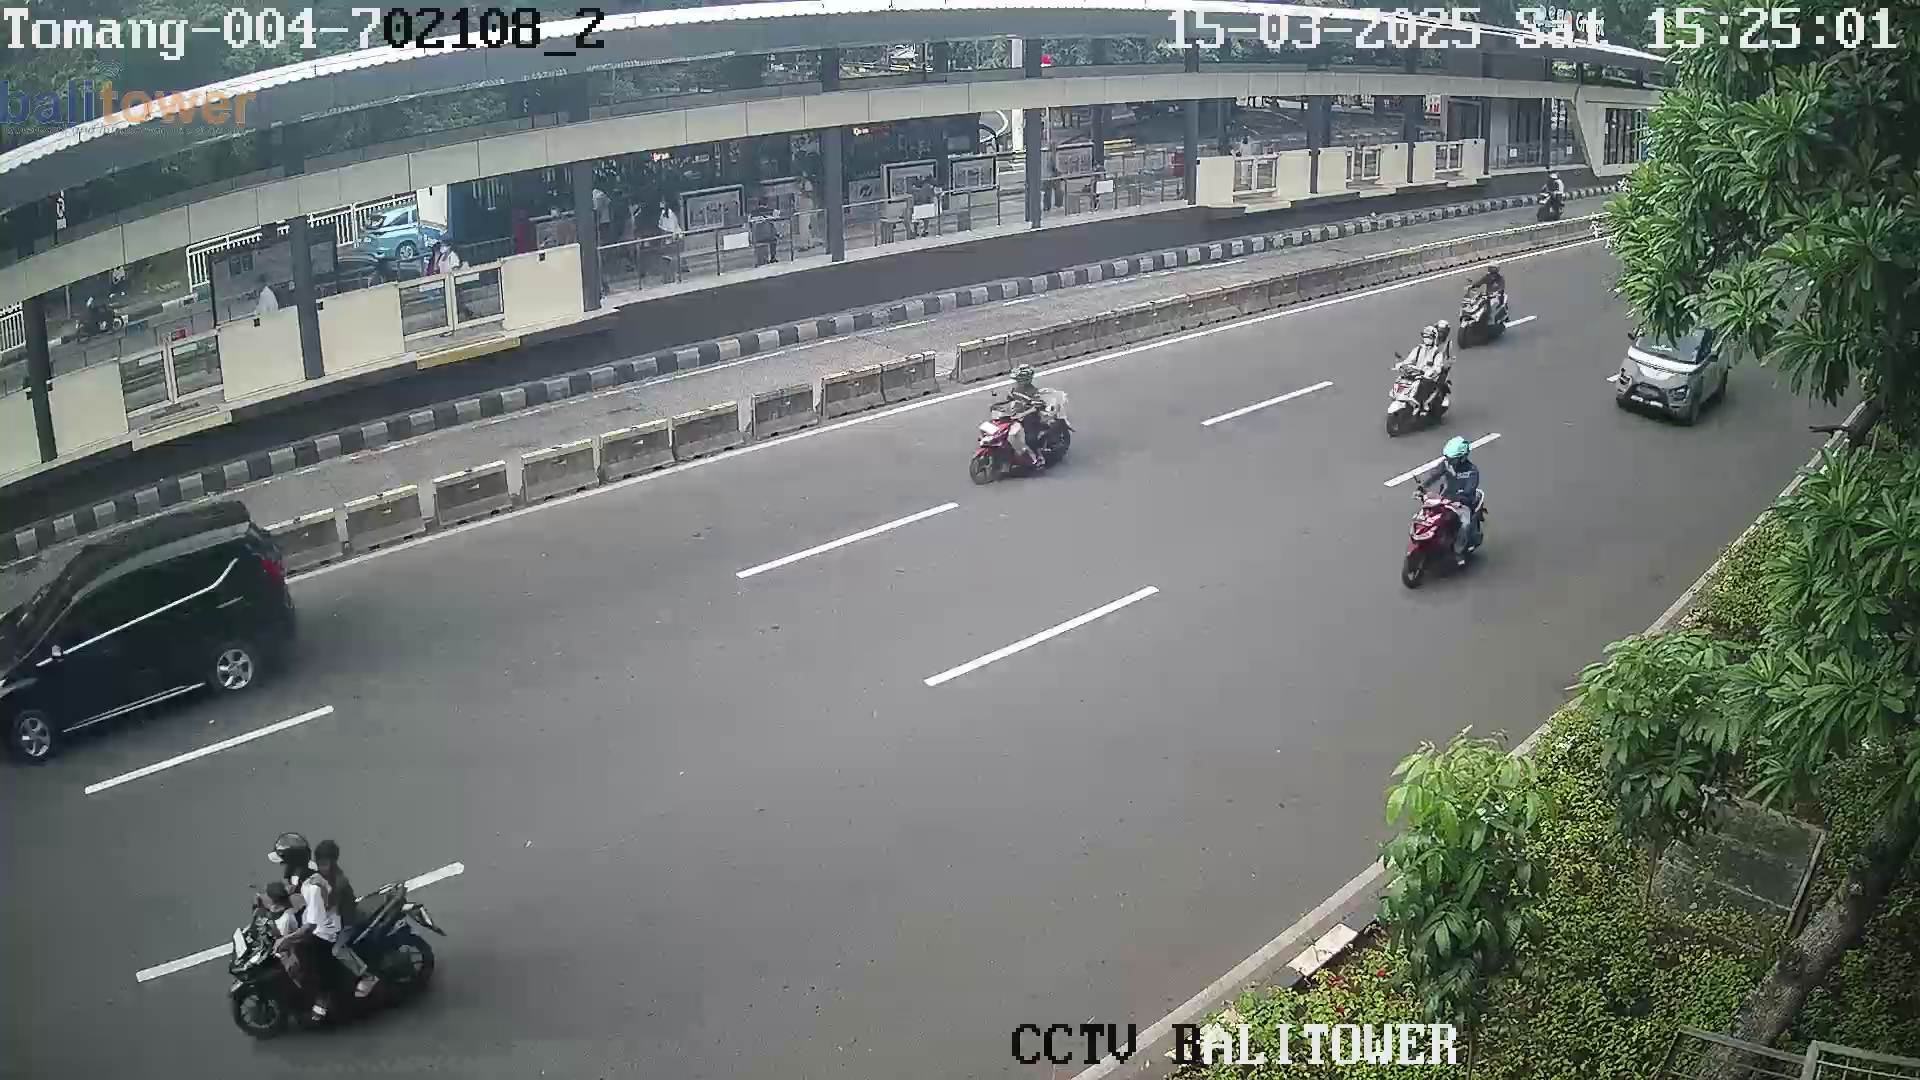full-face helmet: (1443, 437, 1472, 476)
half-face helmet: (259, 831, 314, 884), (1012, 365, 1035, 394), (1425, 324, 1439, 353)
no helmet: (314, 839, 349, 876), (259, 880, 292, 914)
